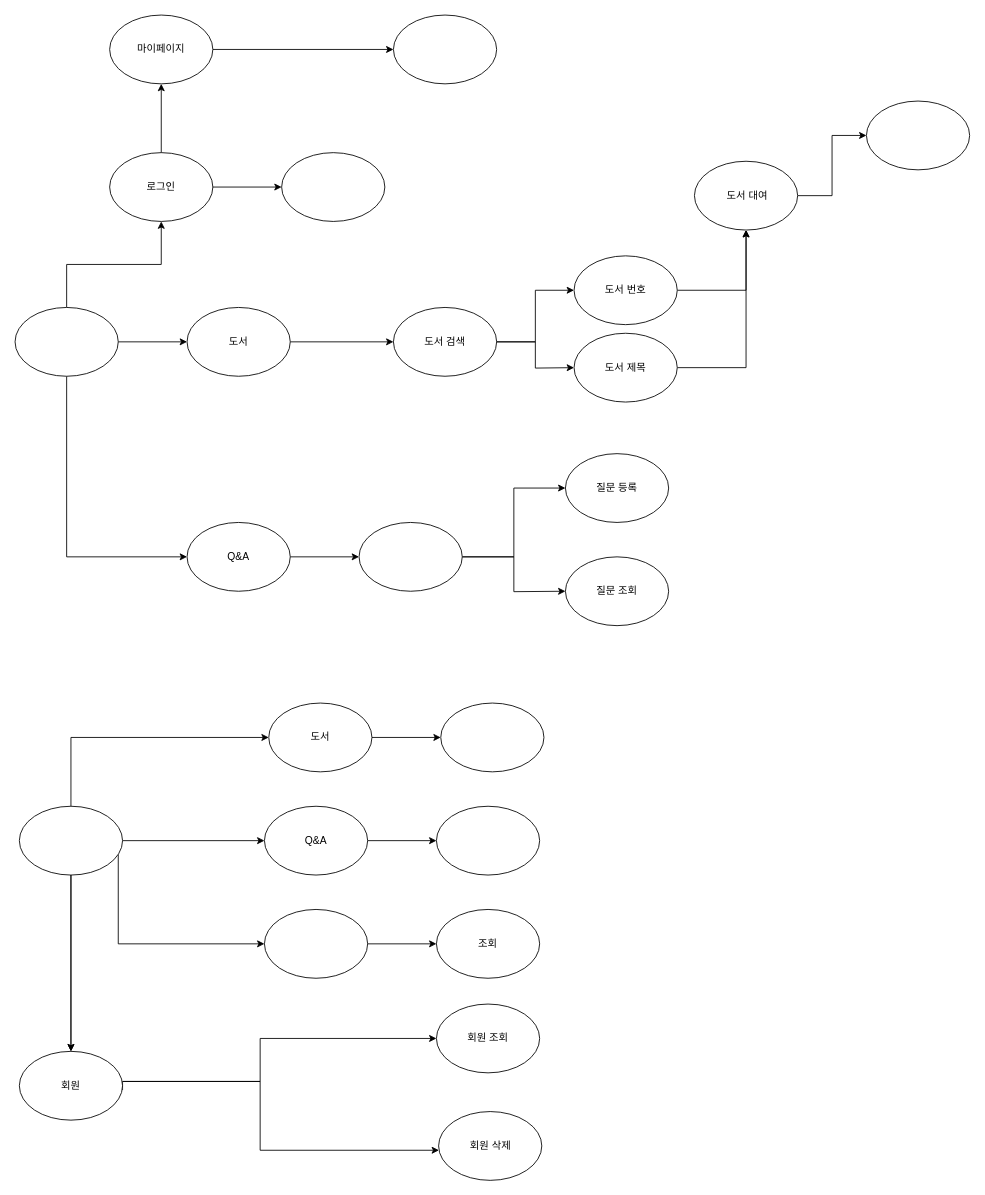
This 985x1195 diagram has some shape labels left out. The shapes that lost their labels are listed below. From the top down, each one's centre as x and y in pixels, then its label:
point (445, 49): 대출 현황/ 내역 조회
point (918, 135): 도서 대여 예약
point (333, 186): 회원가입
point (66, 341): 유저
point (410, 556): 질문
point (70, 840): 관리자
point (488, 840): 질문 답변
point (316, 943): FAQ
